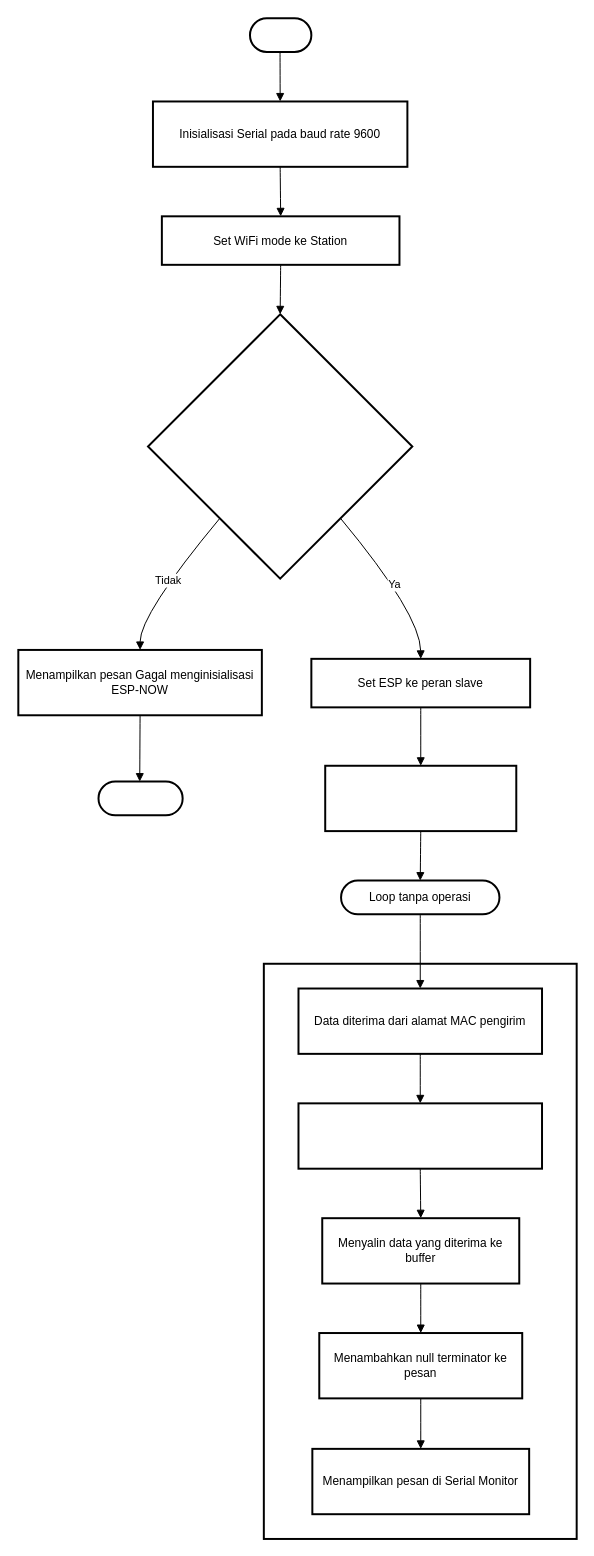
The diagram is 594 pixels wide and 1556 high, and some of its shapes have lost their labels. Each missing label, with the centre of its shape:
"Apakah inisialisasi ESP-NOW berhasil?" goes at (x=280, y=446).
"Berhenti" goes at (x=140, y=798).
"Mencetak alamat MAC pengirim di Serial Monitor" goes at (x=420, y=1135).
"Mulai" goes at (x=280, y=34).
"Registrasi callback onDataRecv" goes at (x=420, y=798).
